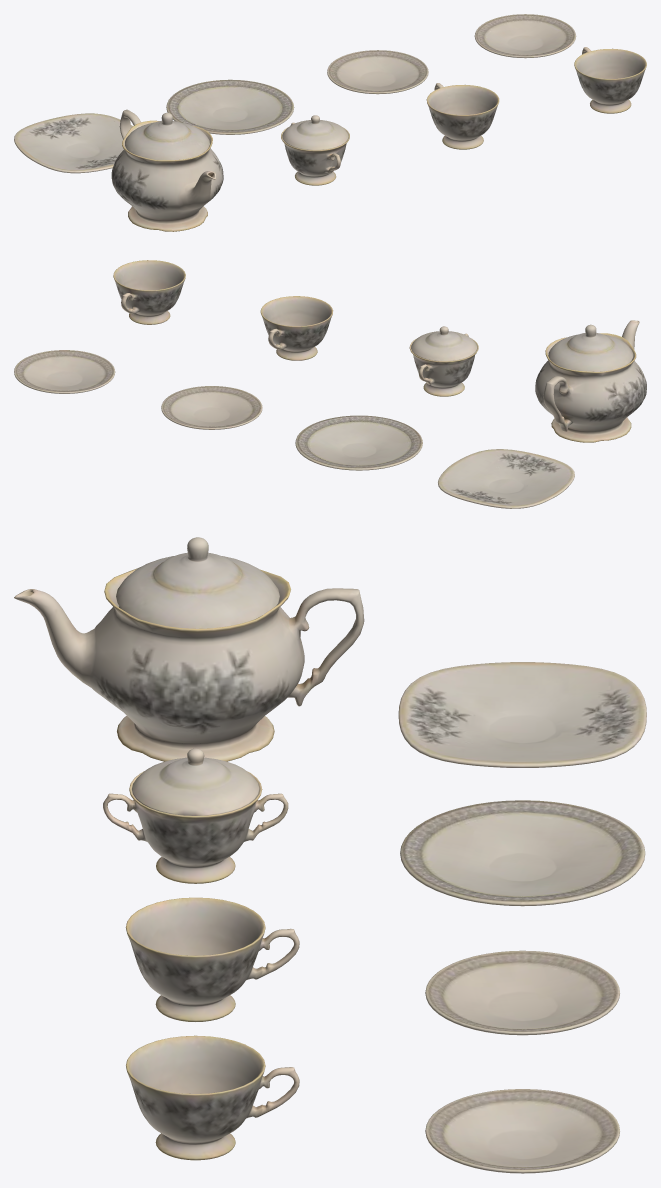
Rendered from teaset.glb.
3 renders of one model, top to bottom at view 1: azimuth 30°, elevation 25°; view 2: azimuth 150°, elevation 25°; view 3: azimuth 270°, elevation 25°, orthographic. The views are drawn at different scales.
Visible parts, largest first — view 1: tea_set_01_teapot_01, tea_set_01_plate_large_circular_03, tea_set_01_plate_large_square_01, tea_set_01_cup_small_01, tea_set_01_cup_small_02, tea_set_01_saucer_circular_03, tea_set_01_saucer_circular_04, tea_set_01_teapot_01_lid, tea_set_01_sugar_cup_01, tea_set_01_sugar_cup_01_lid; view 2: tea_set_01_teapot_01, tea_set_01_plate_large_square_01, tea_set_01_plate_large_circular_03, tea_set_01_cup_small_01, tea_set_01_cup_small_02, tea_set_01_saucer_circular_04, tea_set_01_saucer_circular_03, tea_set_01_teapot_01_lid, tea_set_01_sugar_cup_01, tea_set_01_sugar_cup_01_lid; view 3: tea_set_01_teapot_01, tea_set_01_plate_large_square_01, tea_set_01_plate_large_circular_03, tea_set_01_cup_small_01, tea_set_01_cup_small_02, tea_set_01_saucer_circular_03, tea_set_01_saucer_circular_04, tea_set_01_teapot_01_lid, tea_set_01_sugar_cup_01, tea_set_01_sugar_cup_01_lid.
Part boxes in pixels (x1=…): tea_set_01_teapot_01: x1=111, y1=109, x2=223, y2=231; tea_set_01_plate_large_circular_03: x1=166, y1=79, x2=294, y2=134; tea_set_01_plate_large_square_01: x1=14, y1=113, x2=133, y2=173; tea_set_01_cup_small_01: x1=426, y1=83, x2=499, y2=149; tea_set_01_cup_small_02: x1=574, y1=47, x2=646, y2=113; tea_set_01_saucer_circular_03: x1=474, y1=14, x2=576, y2=58; tea_set_01_saucer_circular_04: x1=327, y1=50, x2=428, y2=94; tea_set_01_teapot_01_lid: x1=125, y1=112, x2=209, y2=160; tea_set_01_sugar_cup_01: x1=281, y1=122, x2=349, y2=185; tea_set_01_sugar_cup_01_lid: x1=282, y1=115, x2=348, y2=150; tea_set_01_teapot_01: x1=535, y1=320, x2=646, y2=442; tea_set_01_plate_large_square_01: x1=438, y1=449, x2=574, y2=508; tea_set_01_plate_large_circular_03: x1=295, y1=415, x2=422, y2=470; tea_set_01_cup_small_01: x1=260, y1=296, x2=333, y2=360; tea_set_01_cup_small_02: x1=113, y1=260, x2=185, y2=324; tea_set_01_saucer_circular_04: x1=161, y1=386, x2=262, y2=429; tea_set_01_saucer_circular_03: x1=14, y1=350, x2=115, y2=393; tea_set_01_teapot_01_lid: x1=548, y1=324, x2=633, y2=371; tea_set_01_sugar_cup_01: x1=409, y1=333, x2=478, y2=396; tea_set_01_sugar_cup_01_lid: x1=411, y1=326, x2=477, y2=361; tea_set_01_teapot_01: x1=14, y1=568, x2=364, y2=761; tea_set_01_plate_large_square_01: x1=398, y1=662, x2=646, y2=767; tea_set_01_plate_large_circular_03: x1=400, y1=800, x2=645, y2=906; tea_set_01_cup_small_01: x1=125, y1=897, x2=299, y2=1021; tea_set_01_cup_small_02: x1=126, y1=1035, x2=299, y2=1160; tea_set_01_saucer_circular_03: x1=425, y1=1089, x2=619, y2=1173; tea_set_01_saucer_circular_04: x1=425, y1=950, x2=619, y2=1035; tea_set_01_teapot_01_lid: x1=116, y1=537, x2=279, y2=628; tea_set_01_sugar_cup_01: x1=103, y1=771, x2=288, y2=883; tea_set_01_sugar_cup_01_lid: x1=131, y1=748, x2=259, y2=815.
Size of the model in its own units: 0.9185 by 0.165 by 0.4839.
Materials: 1 (1 with a texture image).
